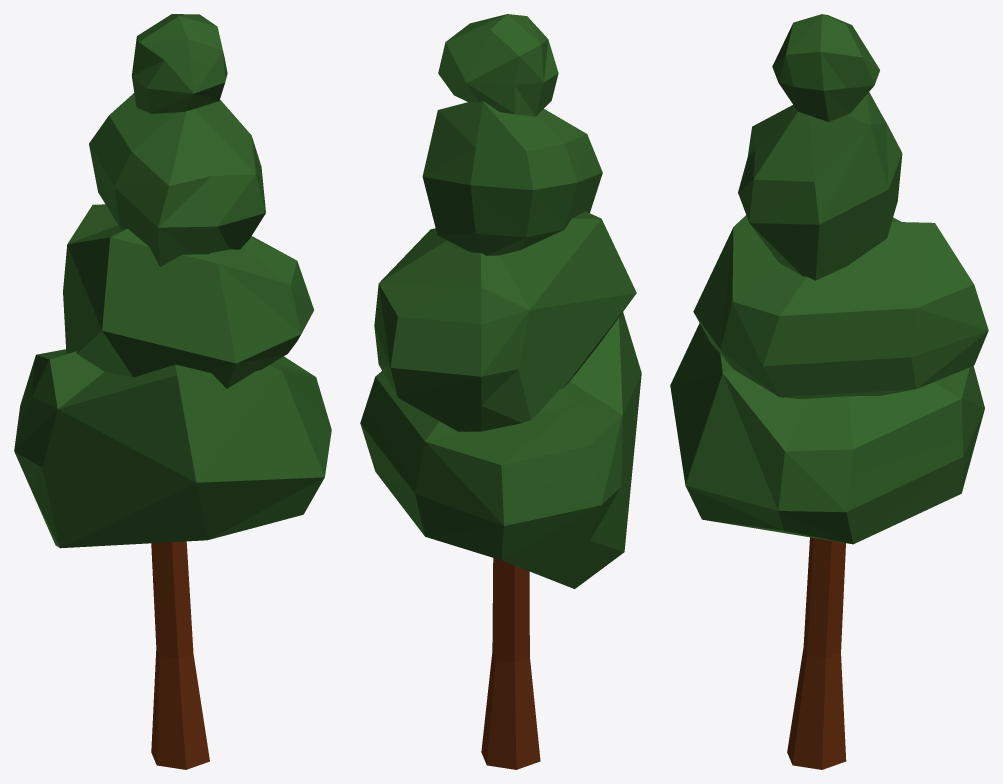
The model's file is TemperateTree_12.glb.
3 renders of one model, left to right at view 1: azimuth 30°, elevation 25°; view 2: azimuth 150°, elevation 25°; view 3: azimuth 270°, elevation 25°, orthographic.
Visible parts, largest first — view 1: Tree_temp_climate_012; view 2: Tree_temp_climate_012; view 3: Tree_temp_climate_012.
Part boxes in pixels (x1,y1,x2,y2): Tree_temp_climate_012: (14, 14, 331, 769); Tree_temp_climate_012: (360, 14, 641, 769); Tree_temp_climate_012: (670, 14, 988, 769).
Bounding box in the file's own units: 2 × 5.38 × 2.09.
1 material, 1 textured.
